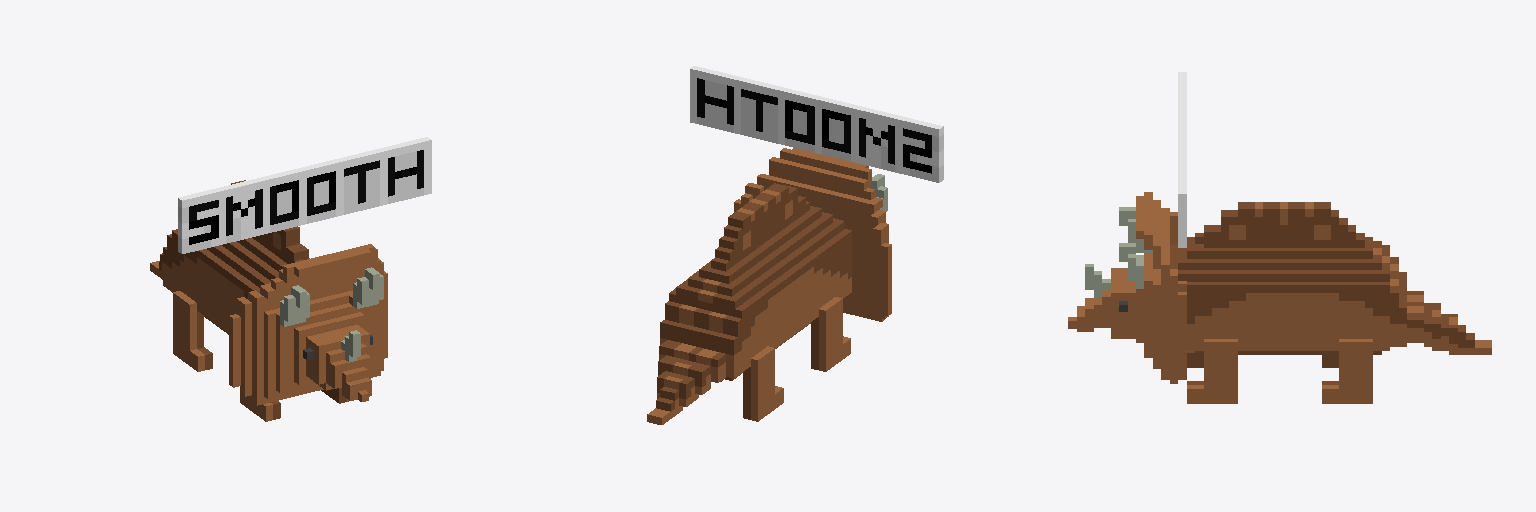
The picture shows the model from 3 angles: view 1: azimuth 30°, elevation 25°; view 2: azimuth 150°, elevation 25°; view 3: azimuth 270°, elevation 25°; orthographic projection.
Parts seen in each view (by area): view 1: Matrix_12; view 2: Matrix_12; view 3: Matrix_12.
Boxes of the visible parts, box(x1,y1,x2,y2) form: Matrix_12: box(150, 137, 431, 421); Matrix_12: box(647, 66, 943, 424); Matrix_12: box(1068, 72, 1491, 403).
Bounding box in the file's own units: 34 × 32 × 50.
Materials: 1 (1 with a texture image).